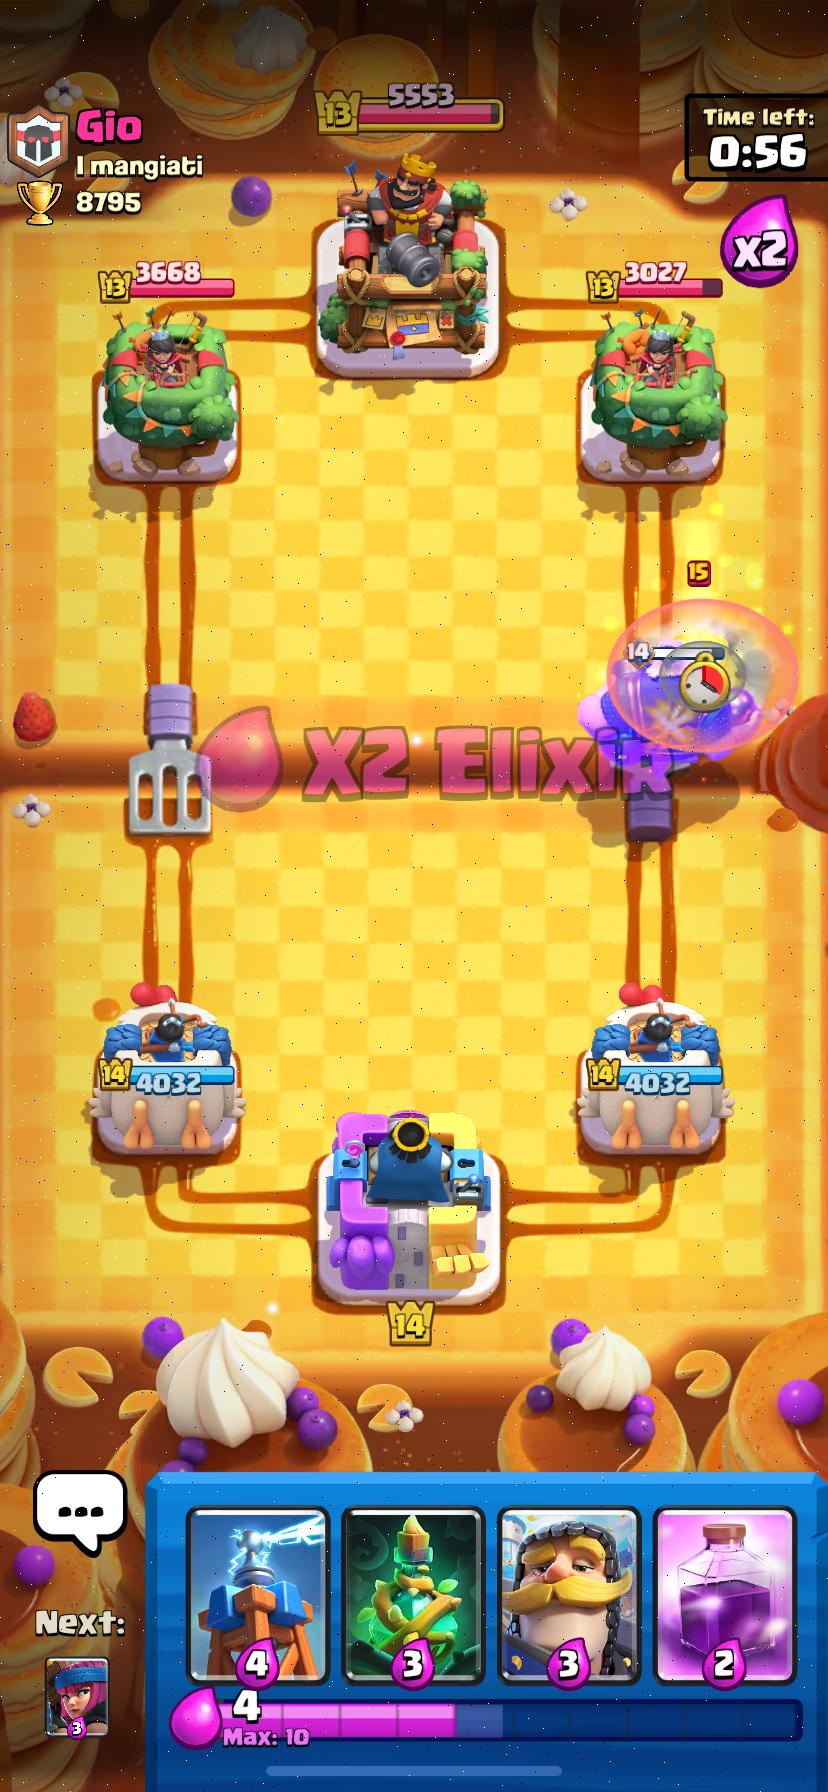EKingTower: (317, 155, 497, 376)
EnemyPrincessTower: (98, 310, 239, 481), (591, 310, 726, 480)
OEVRoyalG: (603, 639, 746, 761)
OwnKingTower: (318, 1109, 499, 1305)
OwnPrincessTower: (576, 984, 733, 1155), (88, 983, 244, 1154)
